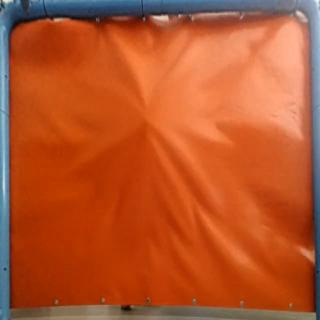Hit-hRxx: (136, 113, 152, 129)
